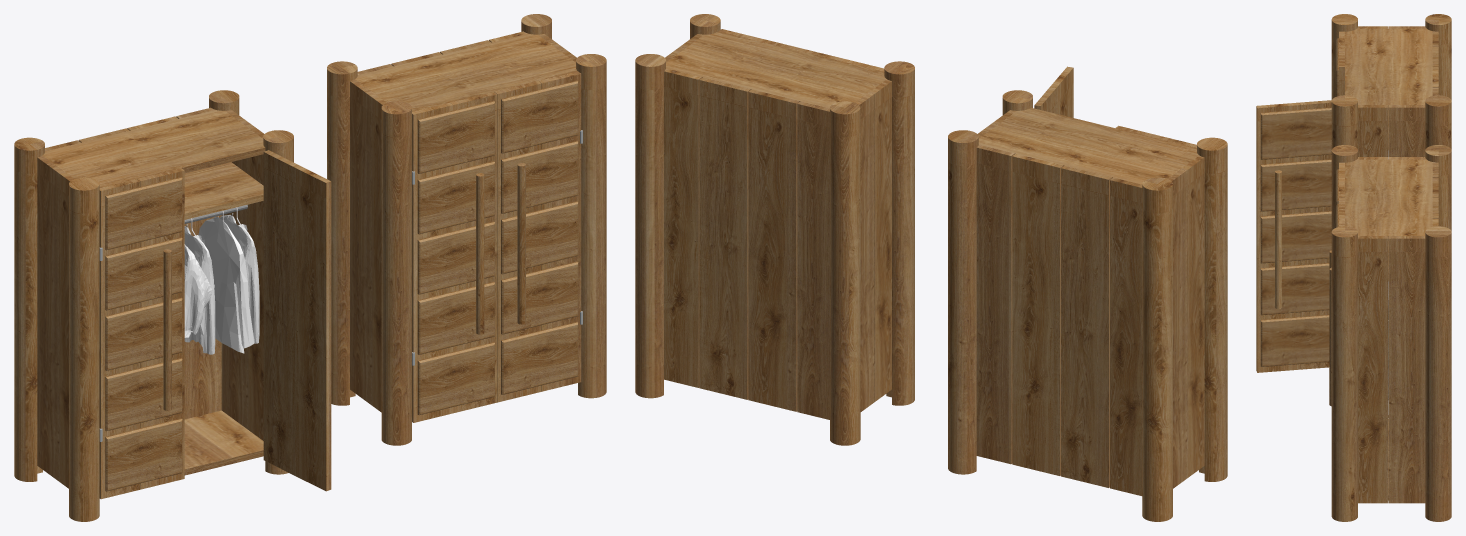
File: obj_item_f675f0.glb
3 views of the same model, side by side, from view 1: azimuth 30°, elevation 25°; view 2: azimuth 150°, elevation 25°; view 3: azimuth 270°, elevation 25° (orthographic). The views are drawn at different scales.
Visible parts, largest first — view 1: obj_item_f675f0; view 2: obj_item_f675f0; view 3: obj_item_f675f0.
Boxes of the visible parts, x1,y1,x2,y2 form: obj_item_f675f0: [14, 14, 606, 521]; obj_item_f675f0: [635, 14, 1227, 521]; obj_item_f675f0: [1256, 14, 1451, 521].
Size of the model in its own units: 3.37 by 2 by 1.24.
Materials: 11 (3 with a texture image).
